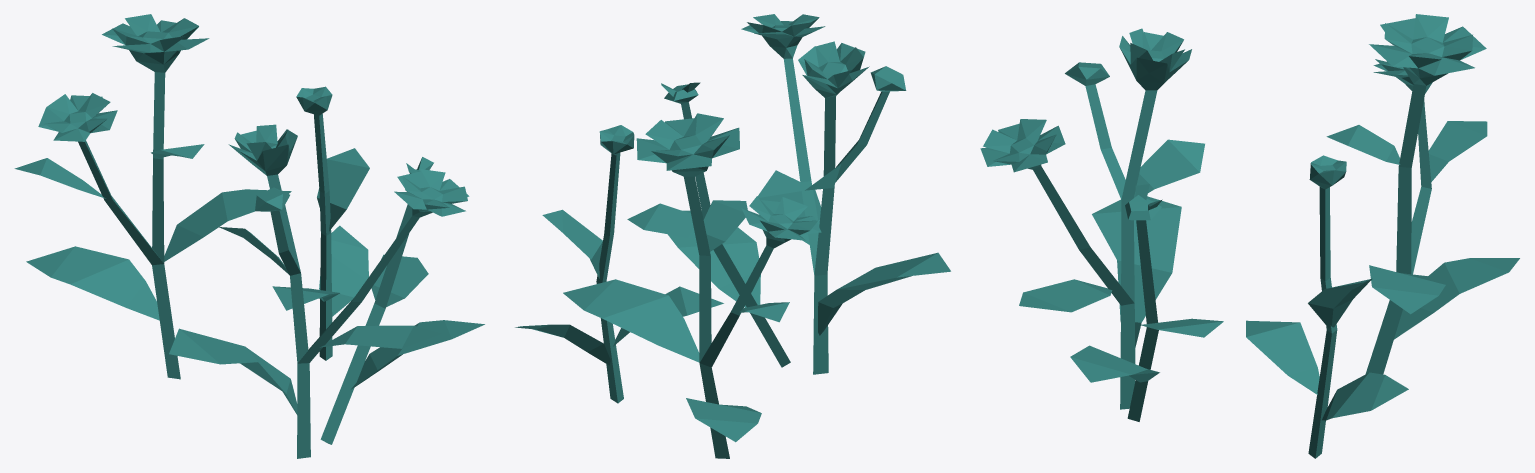
Rendered from SM_Flower_Calendula_Mature.fbx.
3 renders of one model, left to right at view 1: azimuth 30°, elevation 25°; view 2: azimuth 150°, elevation 25°; view 3: azimuth 270°, elevation 25°, orthographic. The views are drawn at different scales.
Parts seen in each view (by area): view 1: flower-calendula-mature; view 2: flower-calendula-mature; view 3: flower-calendula-mature.
Part boxes in pixels (x1,y1,x2,y2): flower-calendula-mature: [14, 14, 484, 458]; flower-calendula-mature: [515, 14, 950, 458]; flower-calendula-mature: [980, 14, 1519, 458].
Size of the model in its own units: 0.5402 by 0.5664 by 0.7489.
